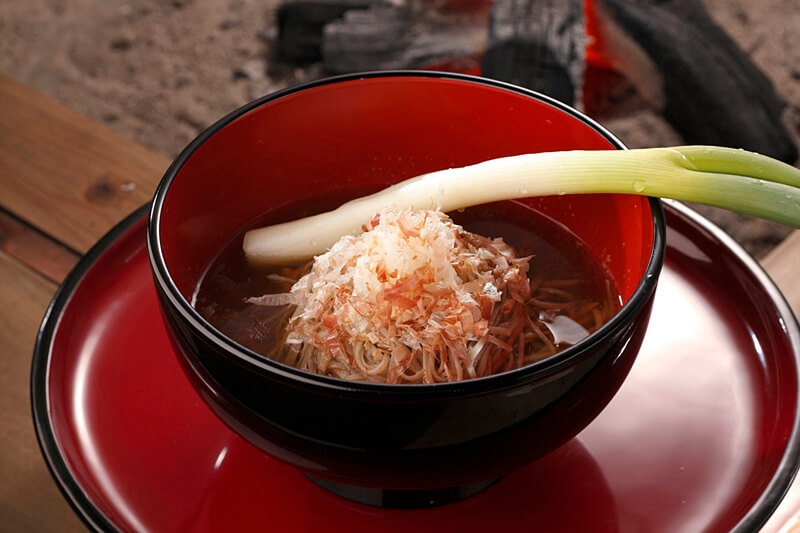Soba: (232, 229, 623, 391)
